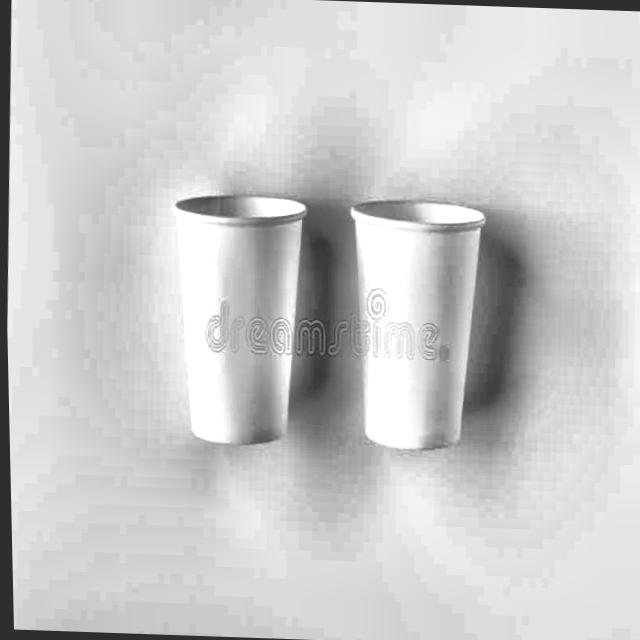Cup: (337, 180, 499, 470), (162, 180, 313, 467)
